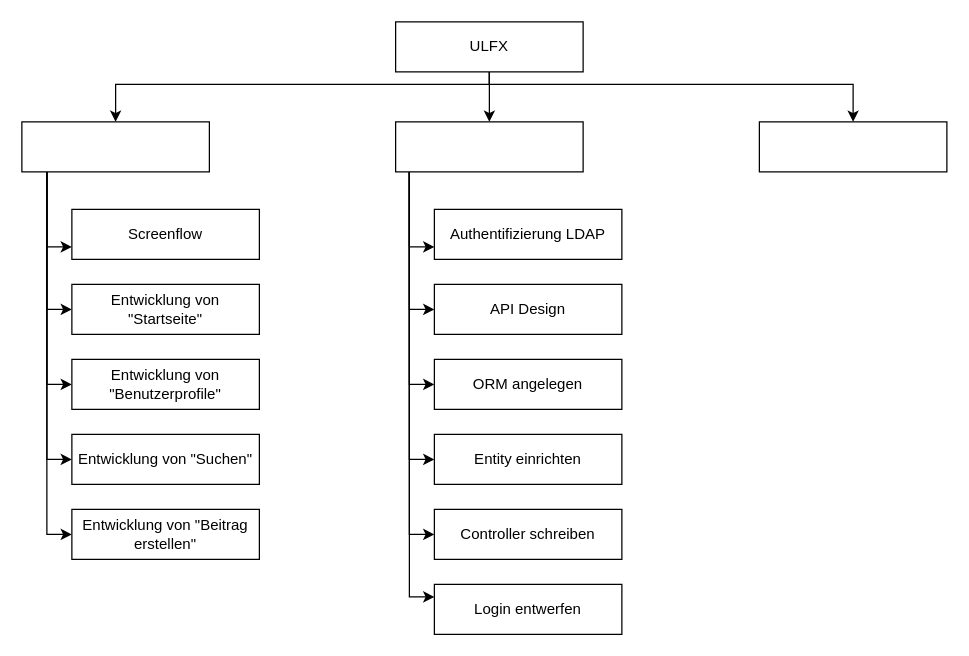
Image size: 969x656. Some labels were removed from this diagram. The shapes that lost their labels are listed below. From the top down, each one's centre as x and y in pixels, then its label:
At [115,146]: "Frontend".
At [488,146]: "User-Manger".
At [852,146]: "Backend".
